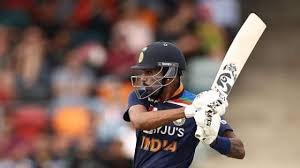bottom left: (248, 8, 258, 18)
bottom right: (264, 21, 274, 31)
top left: (208, 83, 217, 92)
top right: (224, 90, 233, 99)
